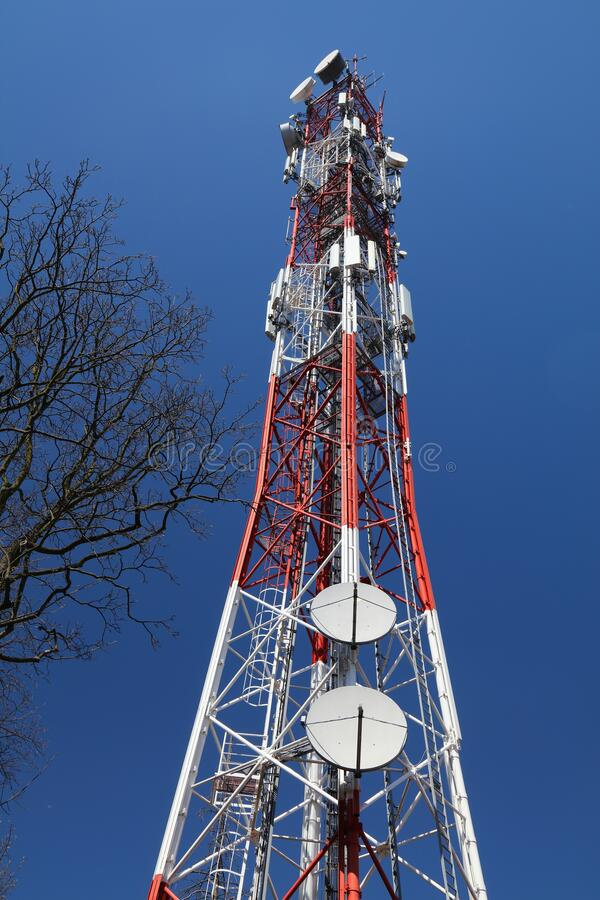ba: (294, 656, 414, 789), (298, 560, 415, 660), (267, 62, 323, 121), (297, 37, 359, 89)
